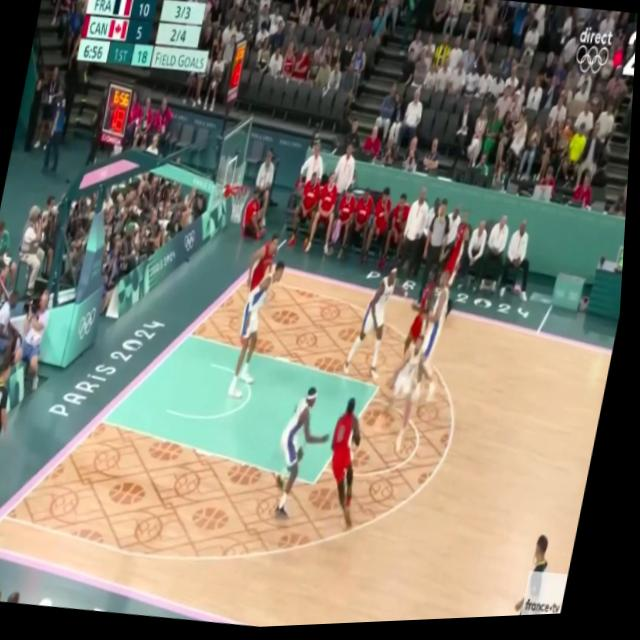ball_handler: (317, 393, 389, 538)
